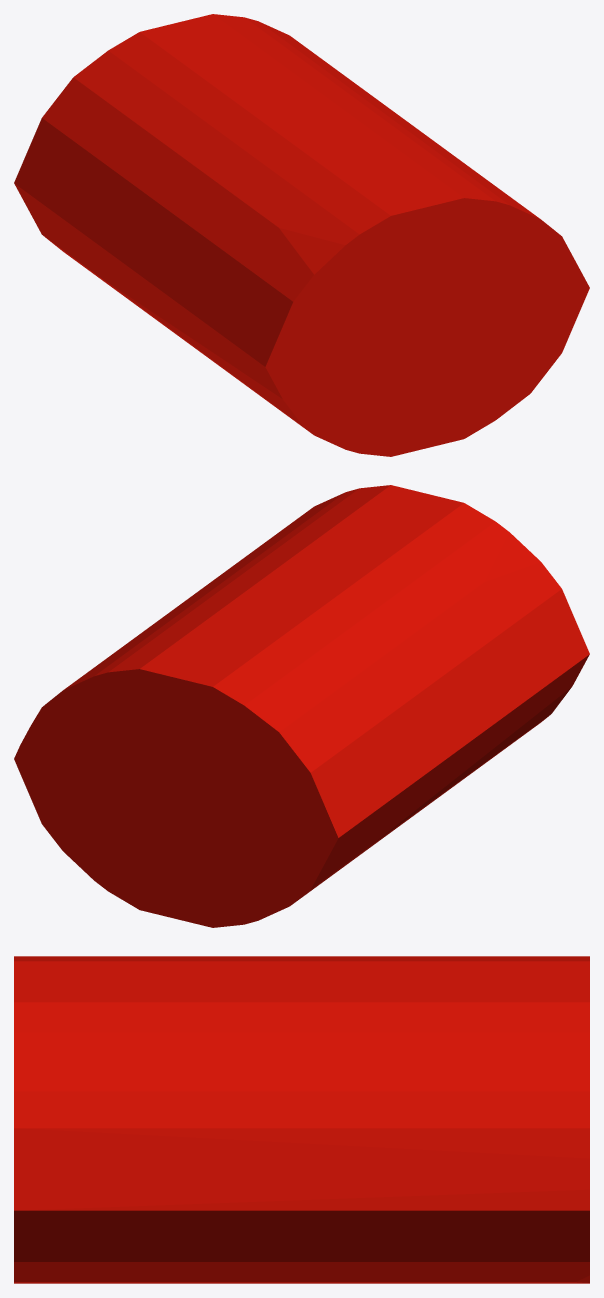
File: model3_convex_piece_003.obj
3 renders of one model, top to bottom at view 1: azimuth 30°, elevation 25°; view 2: azimuth 150°, elevation 25°; view 3: azimuth 270°, elevation 25°, orthographic. The views are drawn at different scales.
Bounding box in the file's own units: 0.0216 × 0.0153 × 0.0289.
